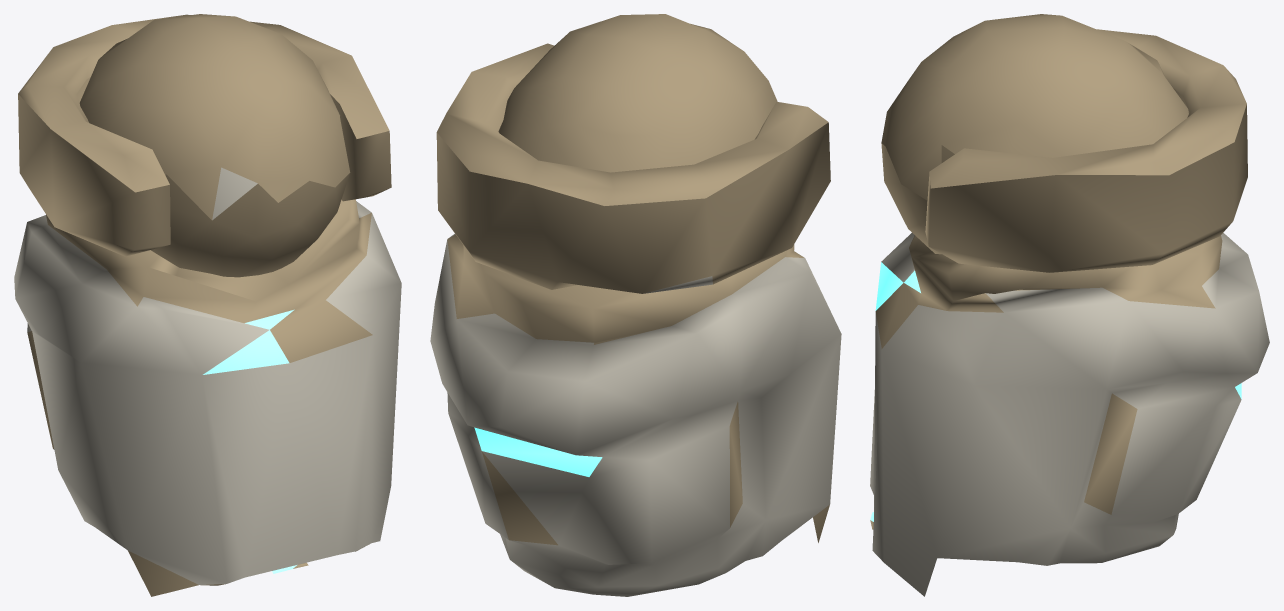
The model's file is BossThigh.glb.
The picture shows the model from 3 angles, left to right: view 1: azimuth 30°, elevation 25°; view 2: azimuth 150°, elevation 25°; view 3: azimuth 270°, elevation 25°; orthographic projection. The views are drawn at different scales.
Parts seen in each view (by area): view 1: BossThigh_Bend.006, PART_BossThigh.006; view 2: BossThigh_Bend.006, PART_BossThigh.006; view 3: BossThigh_Bend.006, PART_BossThigh.006.
Part boxes in pixels (<box>): BossThigh_Bend.006: <box>14,77,401,596</box>; PART_BossThigh.006: <box>18,14,389,220</box>; BossThigh_Bend.006: <box>430,122,841,596</box>; PART_BossThigh.006: <box>437,14,828,205</box>; BossThigh_Bend.006: <box>870,87,1269,596</box>; PART_BossThigh.006: <box>881,14,1246,200</box>.
Bounding box in the file's own units: 0.7848 × 1.17 × 0.8272.
